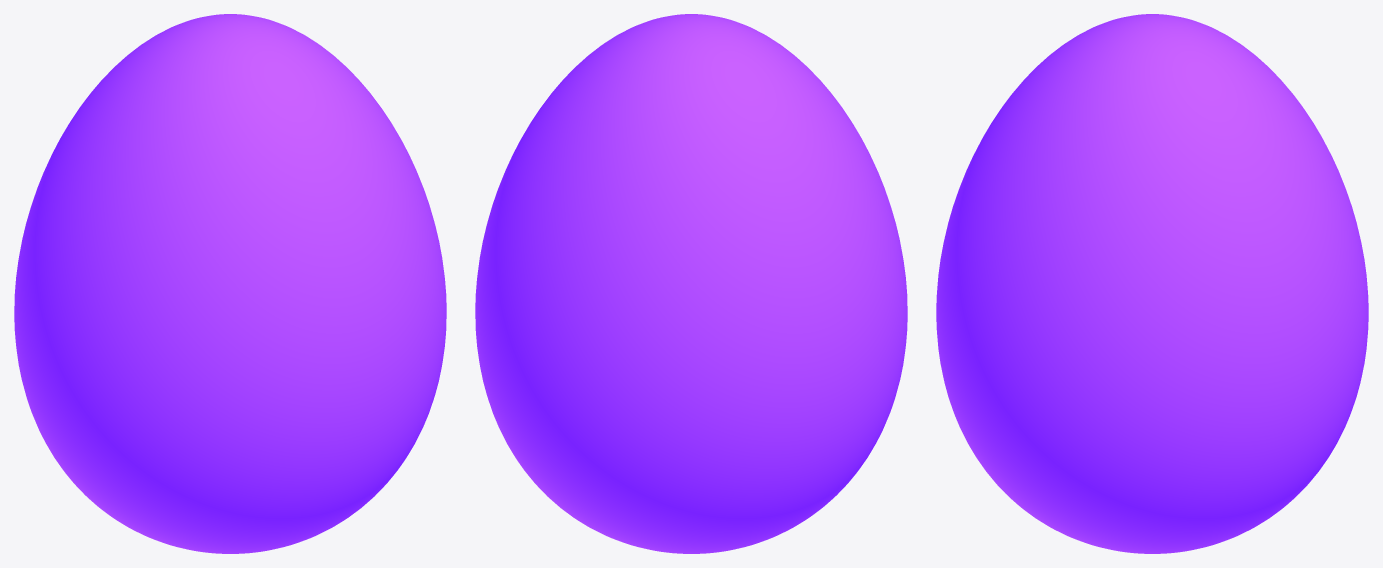
The model's file is sublime.glb.
3 renders of one model, left to right at view 1: azimuth 30°, elevation 25°; view 2: azimuth 150°, elevation 25°; view 3: azimuth 270°, elevation 25°, orthographic.
Visible parts, largest first — view 1: Sphere; view 2: Sphere; view 3: Sphere.
Boxes of the visible parts, x1,y1,x2,y2 form: Sphere: (14, 14, 446, 553); Sphere: (475, 14, 907, 553); Sphere: (936, 14, 1368, 553).
Bounding box in the file's own units: 0.1 × 0.1297 × 0.1.
